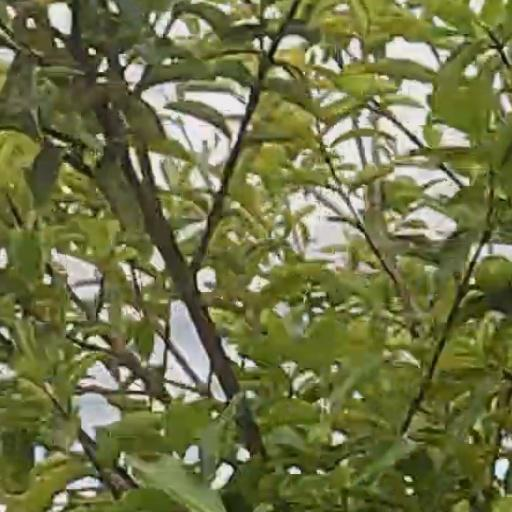acerola_verde: (477, 255, 511, 294)
